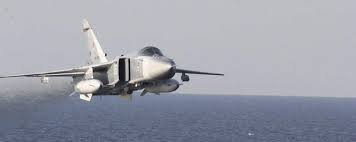fighter: (1, 20, 228, 99)
